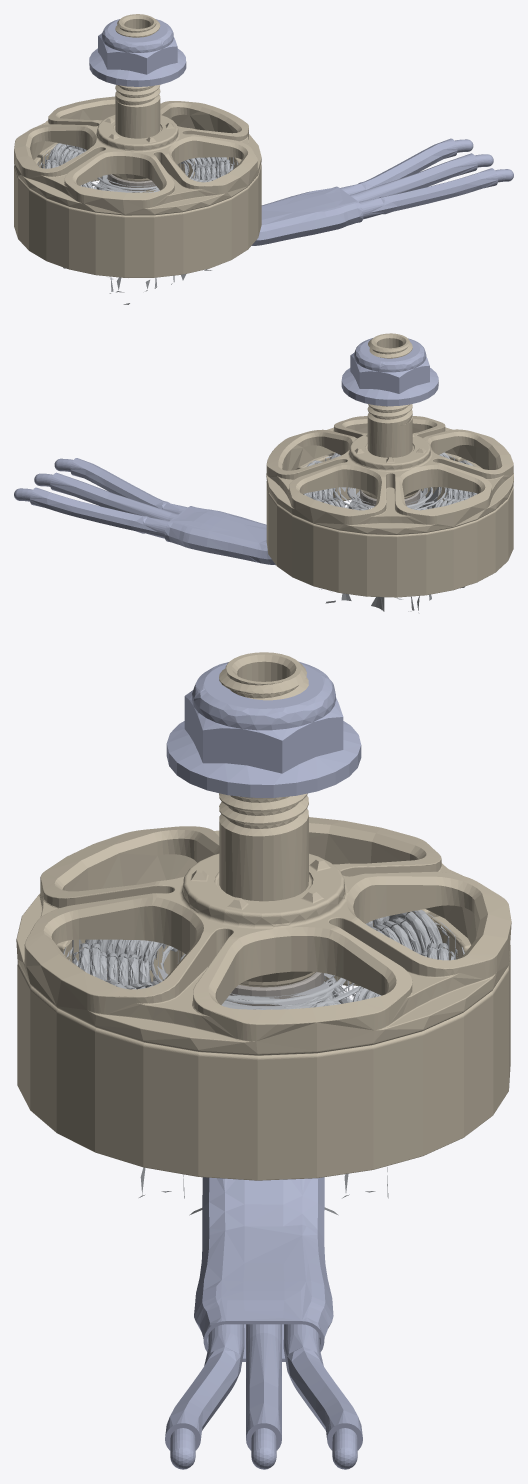
Rendered from pmsm.glb.
The picture shows the model from 3 angles, top to bottom: view 1: azimuth 30°, elevation 25°; view 2: azimuth 150°, elevation 25°; view 3: azimuth 270°, elevation 25°; orthographic projection. The views are drawn at different scales.
Visible parts, largest first — view 1: ROTOR RSII-2206, MOTOR WIRES RSII-2206, Low profile M5 lock nut, STATOR RSII-2206, SHAFT WASHER RSII-2206; view 2: ROTOR RSII-2206, MOTOR WIRES RSII-2206, Low profile M5 lock nut, STATOR RSII-2206; view 3: ROTOR RSII-2206, MOTOR WIRES RSII-2206, Low profile M5 lock nut, STATOR RSII-2206, SHAFT WASHER RSII-2206.
Part boxes in pixels (box(x1,y1,x2,y2)): ROTOR RSII-2206: box(14, 14, 261, 277); MOTOR WIRES RSII-2206: box(251, 138, 513, 245); Low profile M5 lock nut: box(89, 19, 186, 86); STATOR RSII-2206: box(37, 143, 238, 304); SHAFT WASHER RSII-2206: box(107, 174, 155, 190); ROTOR RSII-2206: box(266, 333, 513, 597); MOTOR WIRES RSII-2206: box(14, 458, 275, 565); Low profile M5 lock nut: box(341, 338, 438, 406); STATOR RSII-2206: box(303, 452, 477, 613); ROTOR RSII-2206: box(16, 652, 511, 1180); MOTOR WIRES RSII-2206: box(165, 1177, 362, 1469); Low profile M5 lock nut: box(166, 662, 361, 797); STATOR RSII-2206: box(63, 910, 464, 1215); SHAFT WASHER RSII-2206: box(229, 972, 323, 1005).
Bounding box in the file's own units: 0.0593 × 0.0302 × 0.0275.
